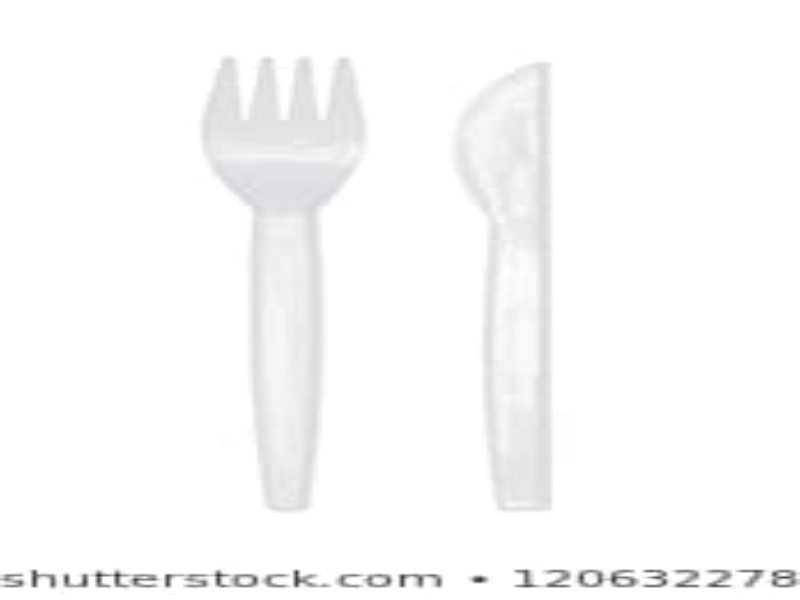plastic-silverware: (201, 52, 359, 511), (454, 58, 574, 512)
